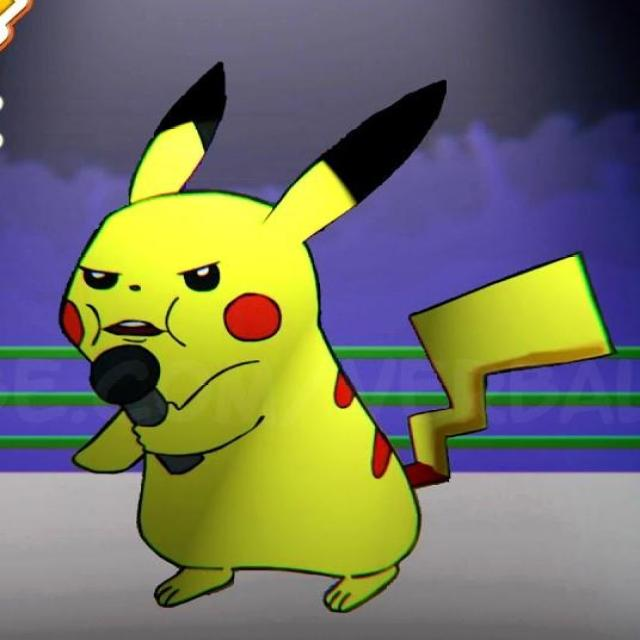pikachu: (57, 62, 614, 617)
